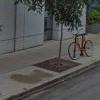Bicycle: (65, 28, 93, 65)
